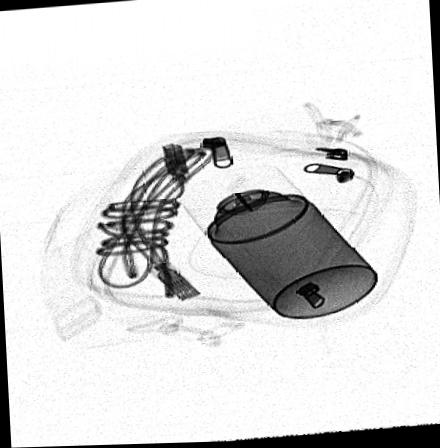Sprayer: (182, 167, 378, 322)
